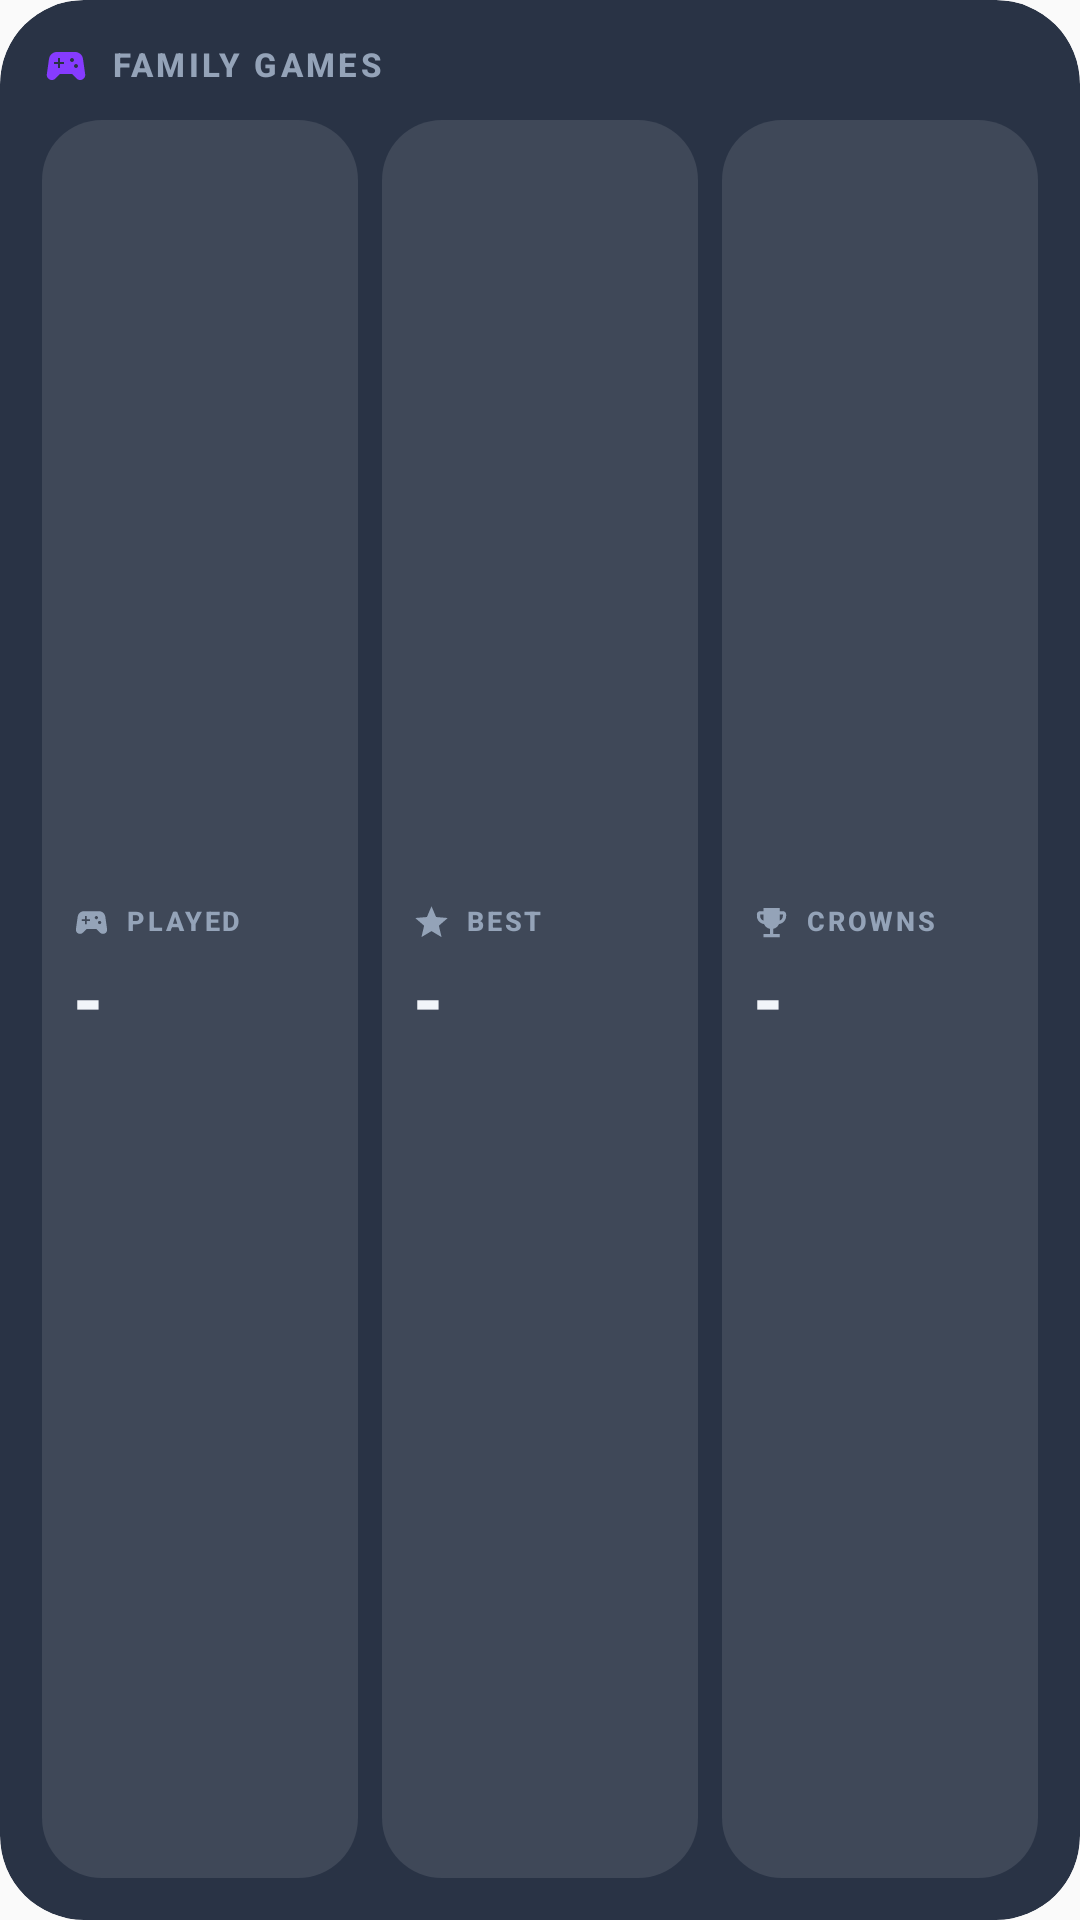

Icon click points for this 1080px×1920px phone screenshot, format [x,y]:
mi gamepad: [66,66], [91,922]
mi star: [431,922]
mi trophy: [771,922]
